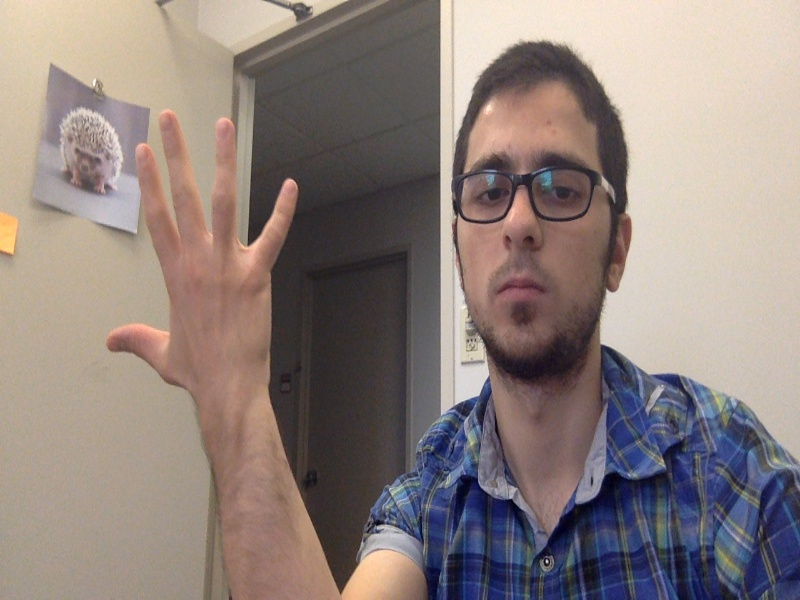5-hand: (104, 111, 300, 414)
